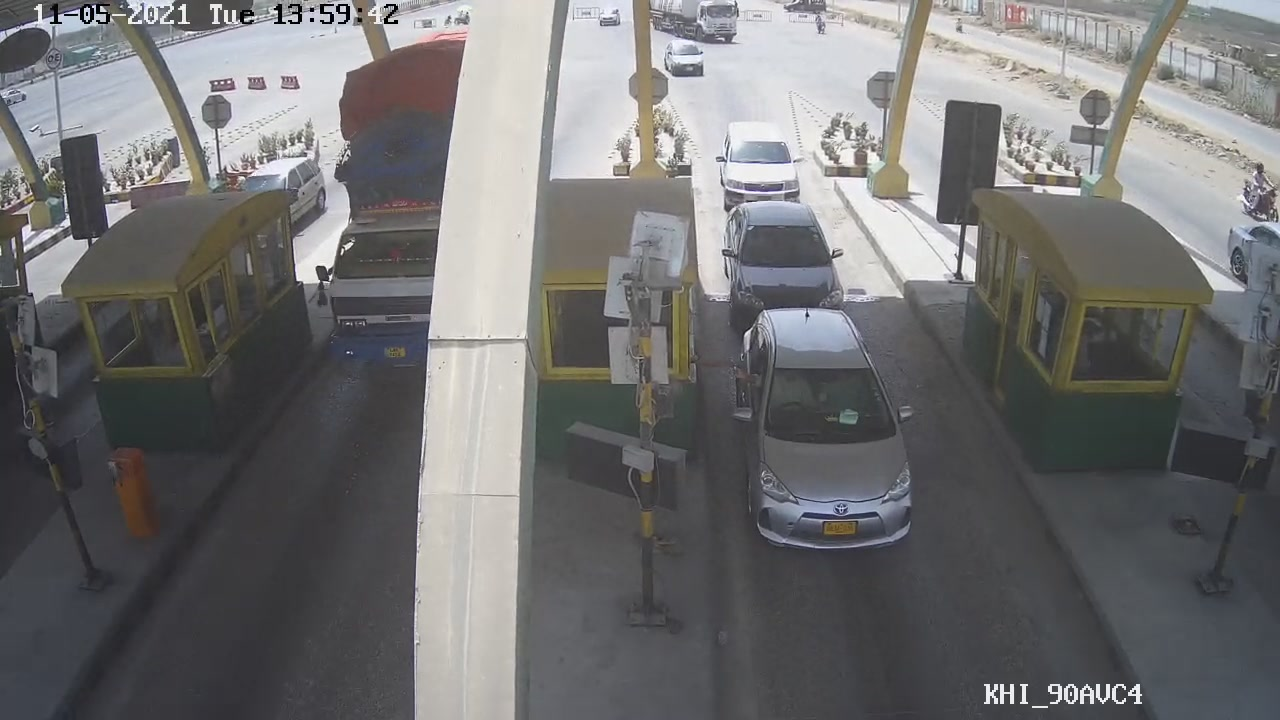F1: (726, 300, 924, 563)
